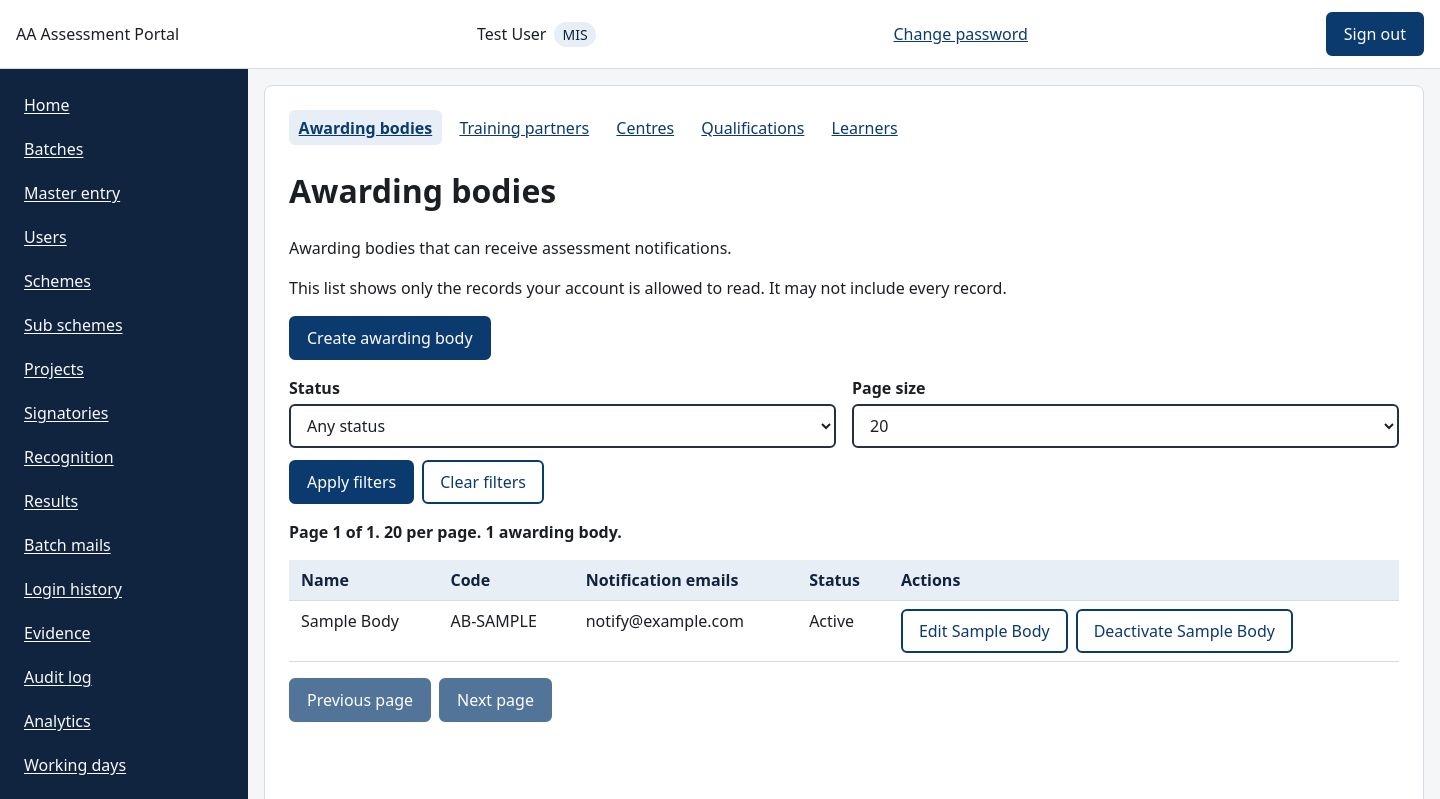
it: filters awarding bodies by status and shows an empty filter result
Check: the cell "Sample Body" is shown, box [289,601,438,662]
Step 1. Select "Inactive" in the dropdown labelled "Status" → (562, 426), box [289,404,836,448]
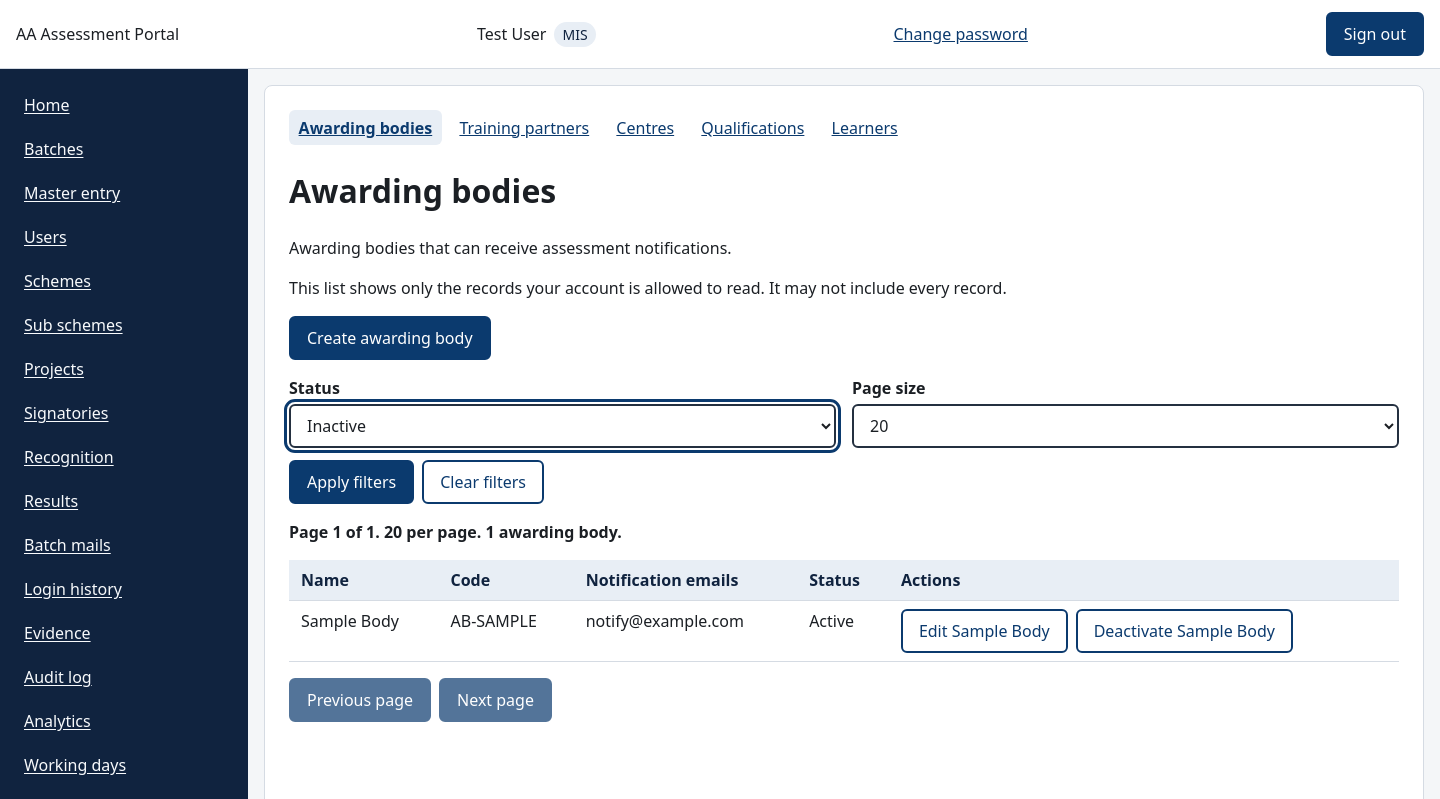
Step 2. Click the button "Apply filters" → click(352, 482), box [289,460,414,504]
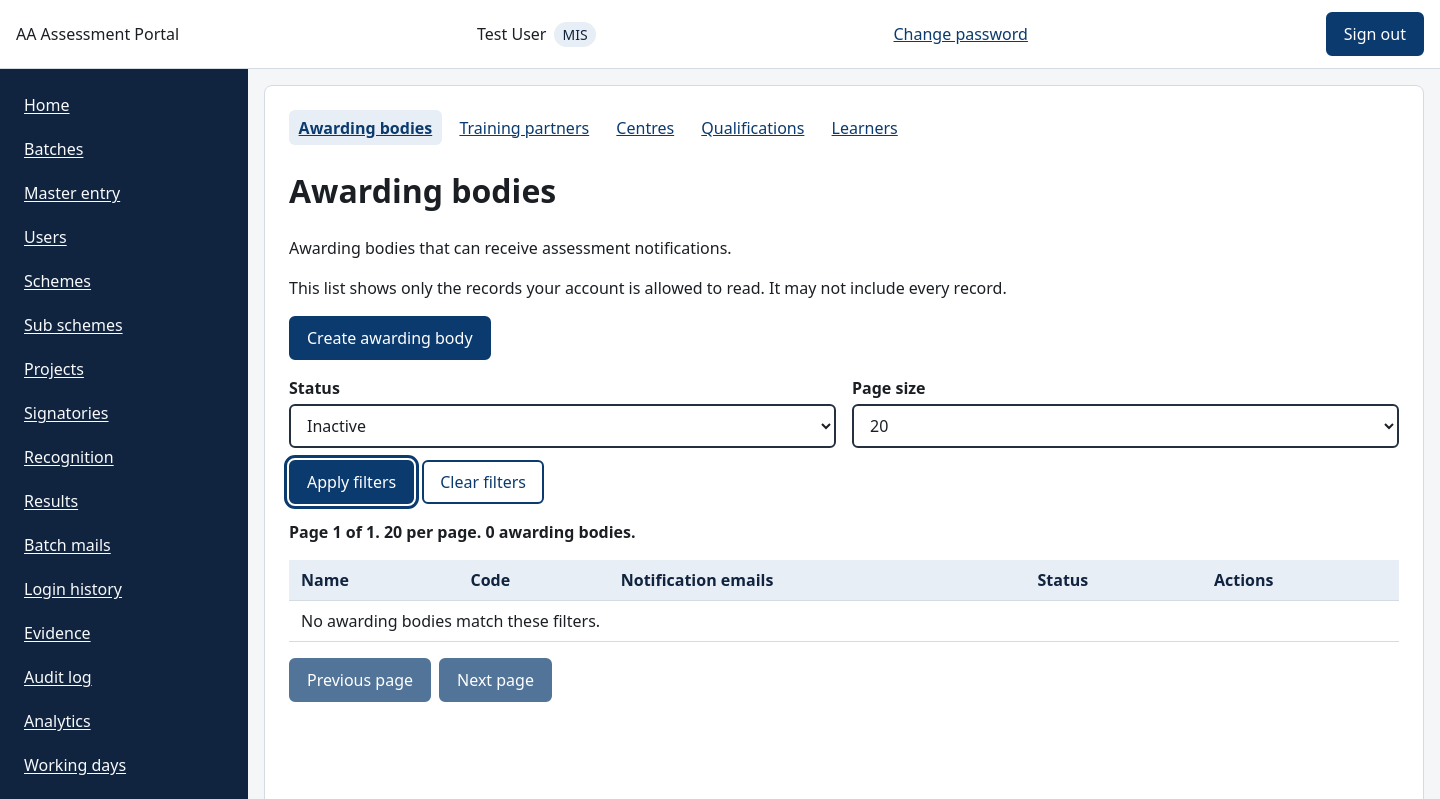
Check: the text "No awarding bodies match these filters." is shown, box [289,601,1399,642]
